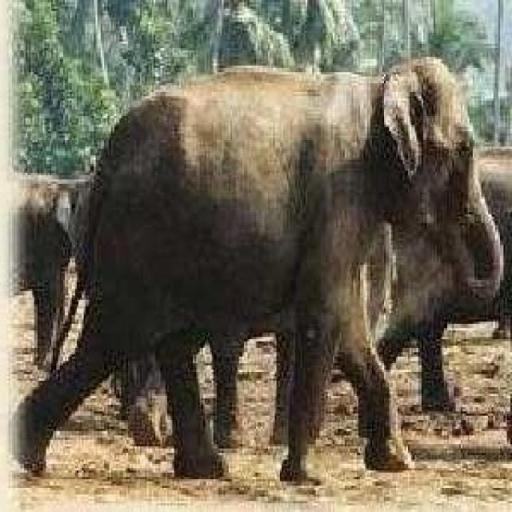Elephant: (12, 54, 504, 484)
